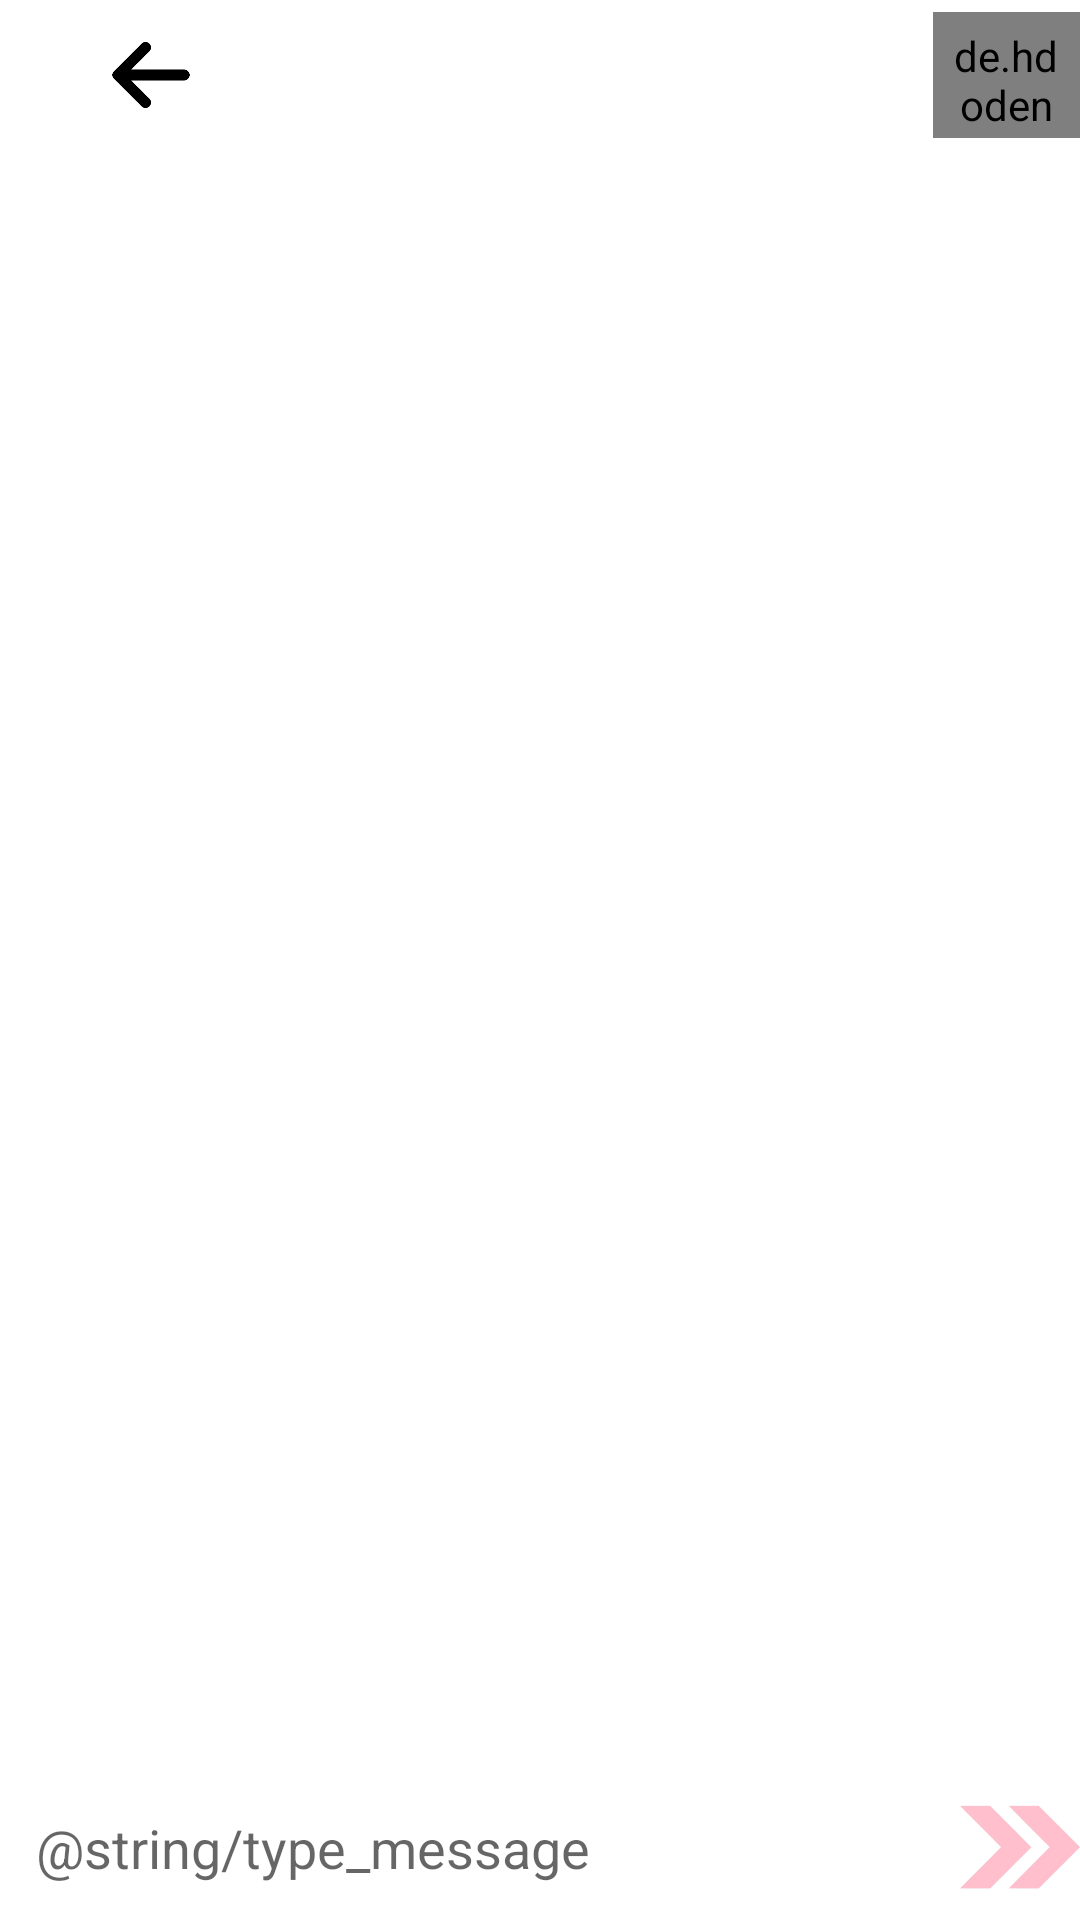

Screen size 1080*1920. Icon name, then its box in pixels as detection(x1, y1, x2, y2):
arrow: detection(112, 42, 190, 108)
